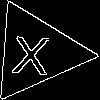X: (11, 27, 51, 75)
